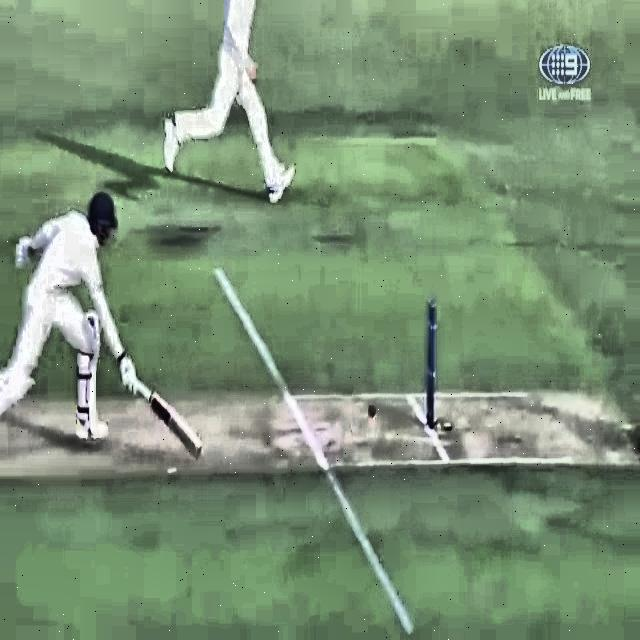Bat: (113, 362, 210, 458)
Pitch_Line: (212, 264, 416, 636)
Undis_Wicket: (422, 302, 445, 433)
